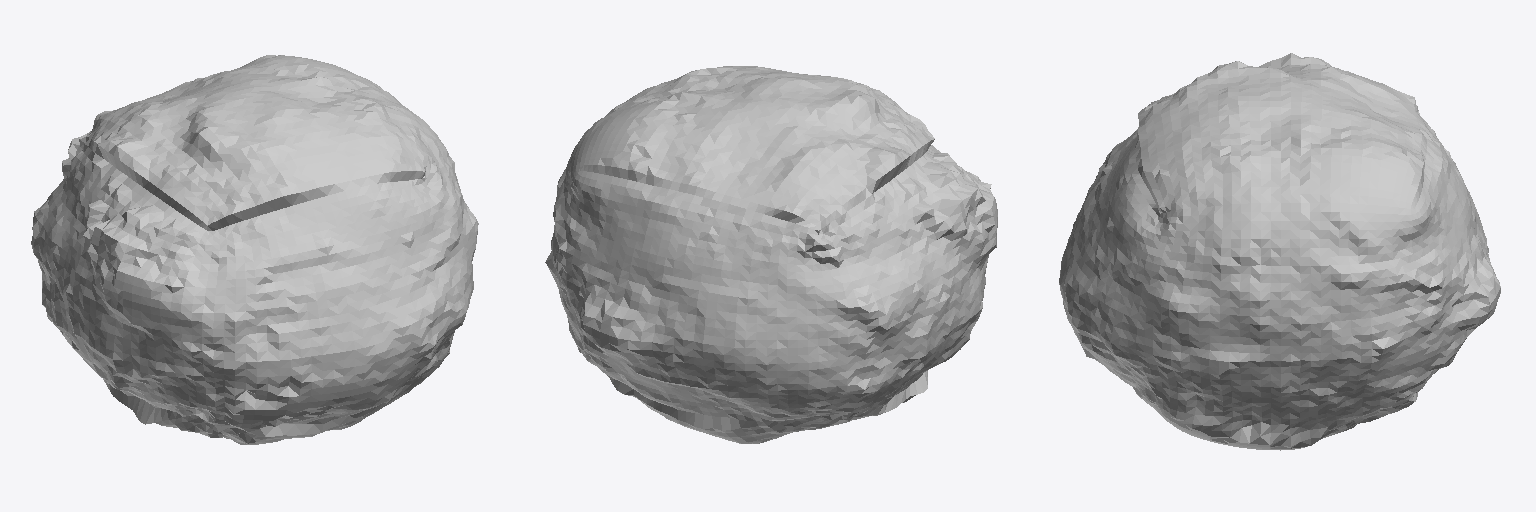
File: Asteriod2.obj
The picture shows the model from 3 angles: view 1: azimuth 30°, elevation 25°; view 2: azimuth 150°, elevation 25°; view 3: azimuth 270°, elevation 25°; orthographic projection.
Parts seen in each view (by area): view 1: Cube_Cube.001; view 2: Cube_Cube.001; view 3: Cube_Cube.001.
Part boxes in pixels (x1,y1,x2,y2): Cube_Cube.001: (31, 55, 478, 444); Cube_Cube.001: (545, 66, 997, 443); Cube_Cube.001: (1059, 53, 1500, 450).
Size of the model in its own units: 4.51 by 3.76 by 4.68.